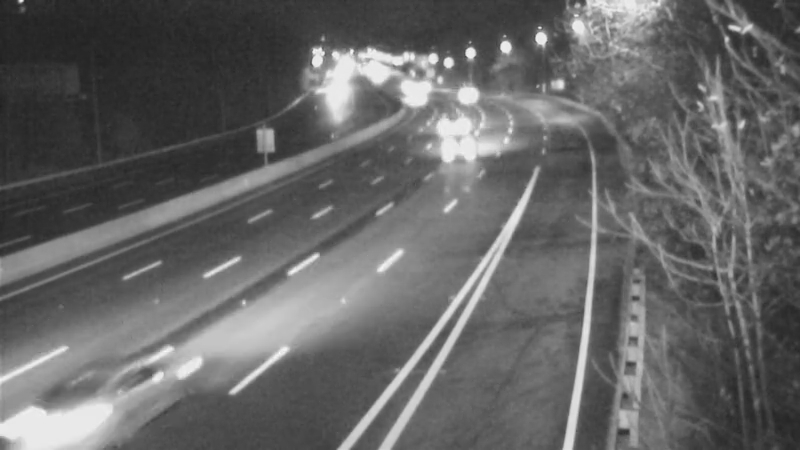vehicle: (36, 347, 146, 450), (438, 67, 488, 117), (388, 72, 438, 122), (427, 98, 477, 148), (442, 123, 492, 173)
